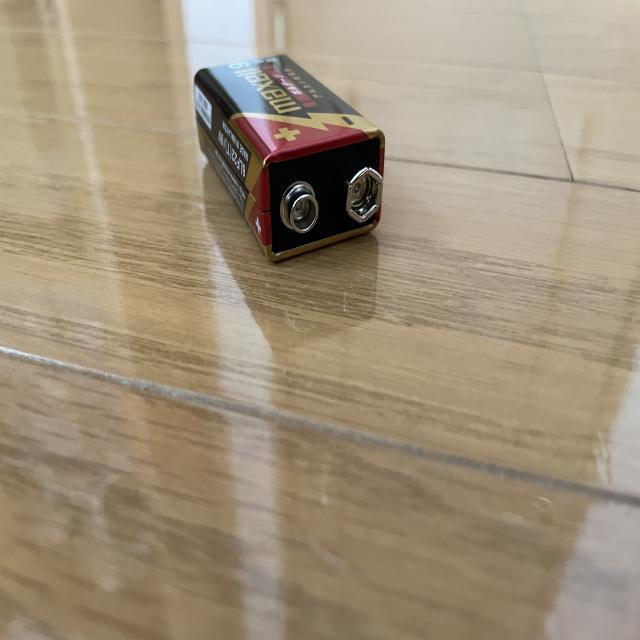9V: (193, 53, 386, 260)
